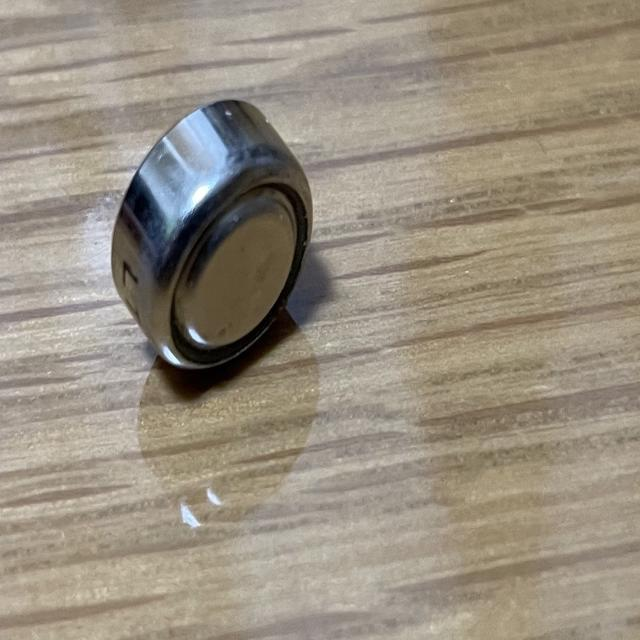COIN: (109, 98, 314, 370)
